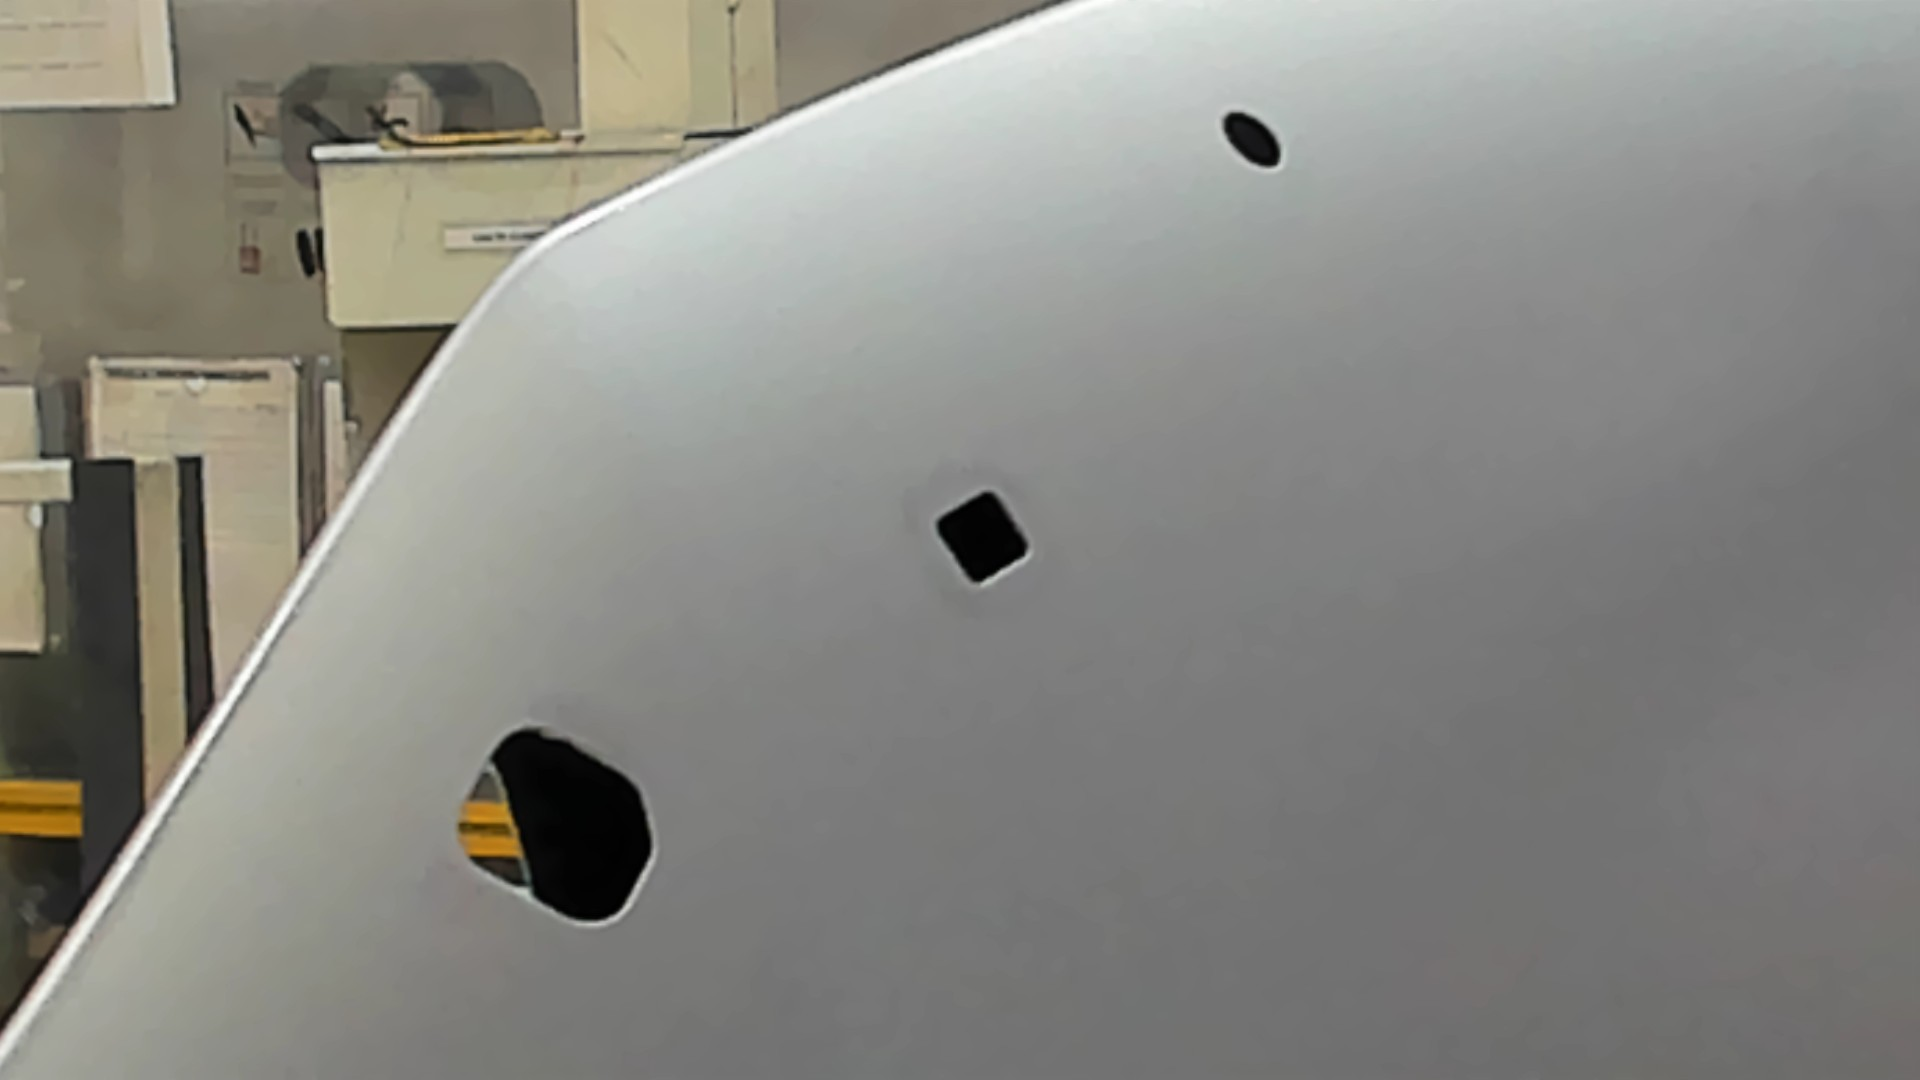Agujero: (931, 487, 1034, 589), (1218, 109, 1280, 167)
Agujerote: (454, 724, 659, 931)
